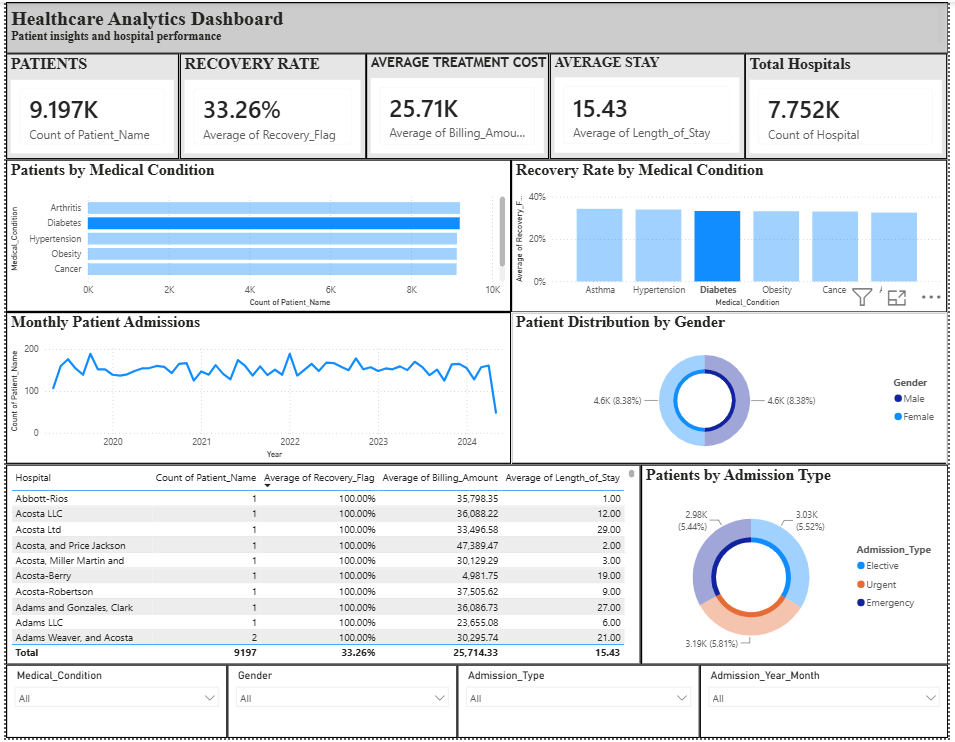

Layout of this report page (visuals, bound fields, positions):
{"tool":"powerbi","page":{"name":"Healthcare Dashboard","canvas":[1280,1000],"ordinal":0},"visuals":[{"type":"textbox","box":[0,0,1280.9,70.3],"z":0},{"type":"cardVisual","title":"PATIENTS","fields":{"Data":["CountNonNull(healthcare_cleaned.Patient_Name)"]},"box":[0,70.3,235.4,143.7],"z":1000},{"type":"cardVisual","title":"RECOVERY RATE","fields":{"Data":["Avg(healthcare_cleaned.Recovery_Flag)"]},"box":[235.4,70.3,253.7,143.7],"z":2000},{"type":"cardVisual","title":"AVERAGE TREATMENT COST","fields":{"Data":["Avg(healthcare_cleaned.Billing_Amount)"]},"box":[489.1,70.3,249.2,143.7],"z":3000},{"type":"cardVisual","title":"AVERAGE STAY","fields":{"Data":["Avg(healthcare_cleaned.Length_of_Stay)"]},"box":[738.3,70.3,266,143.7],"z":4000},{"type":"cardVisual","title":"Total Hospitals","fields":{"Data":["Count(healthcare_cleaned.Hospital)"]},"box":[1004.3,70.3,275.1,143.7],"z":5000},{"type":"clusteredBarChart","title":"Patients by Medical Condition","fields":{"Category":["healthcare_cleaned.Medical_Condition"],"Y":["CountNonNull(healthcare_cleaned.Patient_Name)"]},"box":[0,214,686.1,207.2],"z":6000},{"type":"clusteredColumnChart","title":"Recovery Rate by Medical Condition","fields":{"Category":["healthcare_cleaned.Medical_Condition"],"Y":["Avg(healthcare_cleaned.Recovery_Flag)"]},"box":[686.3,214,593.1,207.9],"z":7000},{"type":"lineChart","title":"Monthly Patient Admissions","fields":{"Category":["healthcare_cleaned.Admission_Year_Month.Variation.Date Hierarchy.Year","healthcare_cleaned.Admission_Year_Month.Variation.Date Hierarchy.Quarter","healthcare_cleaned.Admission_Year_Month.Variation.Date Hierarchy.Month","healthcare_cleaned.Admission_Year_Month.Variation.Date Hierarchy.Day"],"Y":["CountNonNull(healthcare_cleaned.Patient_Name)"]},"box":[0,421.9,686.3,206.4],"z":8000},{"type":"donutChart","title":"Patient Distribution by Gender","fields":{"Category":["healthcare_cleaned.Gender"],"Y":["CountNonNull(healthcare_cleaned.Patient_Name)"]},"box":[686.3,421.9,593.1,206.4],"z":9000},{"type":"donutChart","title":"Patients by Admission Type","fields":{"Category":["healthcare_cleaned.Admission_Type"],"Y":["CountNonNull(healthcare_cleaned.Patient_Name)"]},"box":[862.1,628.2,417.3,272.1],"z":10000},{"type":"tableEx","fields":{"Values":["healthcare_cleaned.Hospital","healthcare_cleaned.Patient_Name","Avg(healthcare_cleaned.Recovery_Flag)","Avg(healthcare_cleaned.Billing_Amount)","Avg(healthcare_cleaned.Length_of_Stay)"]},"box":[0,628.2,862.1,272.1],"z":11000},{"type":"slicer","fields":{"Values":["healthcare_cleaned.Medical_Condition"]},"box":[0,900.1,300.6,100.2],"z":11001},{"type":"slicer","fields":{"Values":["healthcare_cleaned.Gender"]},"box":[300.6,900.1,312.5,100.2],"z":11002},{"type":"slicer","fields":{"Values":["healthcare_cleaned.Admission_Type"]},"box":[613.1,900.1,329.5,100.2],"z":11003},{"type":"slicer","fields":{"Values":["healthcare_cleaned.Admission_Year_Month"]},"box":[942.6,900.1,338,100.2],"z":11004}]}

Visuals, with their boxes in screenshot pixels (x1, y1, x2, y2), scaled from the page's 1280x1000 canvas onto the 955x742 screenshot:
textbox: BBox(0, 0, 954, 52)
"PATIENTS" cardVisual: BBox(0, 52, 176, 159)
"RECOVERY RATE" cardVisual: BBox(176, 52, 365, 159)
"AVERAGE TREATMENT COST" cardVisual: BBox(365, 52, 551, 159)
"AVERAGE STAY" cardVisual: BBox(551, 52, 749, 159)
"Total Hospitals" cardVisual: BBox(749, 52, 954, 159)
"Patients by Medical Condition" clusteredBarChart: BBox(0, 159, 512, 313)
"Recovery Rate by Medical Condition" clusteredColumnChart: BBox(512, 159, 954, 313)
"Monthly Patient Admissions" lineChart: BBox(0, 313, 512, 466)
"Patient Distribution by Gender" donutChart: BBox(512, 313, 954, 466)
"Patients by Admission Type" donutChart: BBox(643, 466, 954, 668)
tableEx - healthcare_cleaned.Hospital x healthcare_cleaned.Patient_Name: BBox(0, 466, 643, 668)
slicer - healthcare_cleaned.Medical_Condition: BBox(0, 668, 224, 741)
slicer - healthcare_cleaned.Gender: BBox(224, 668, 457, 741)
slicer - healthcare_cleaned.Admission_Type: BBox(457, 668, 703, 741)
slicer - healthcare_cleaned.Admission_Year_Month: BBox(703, 668, 954, 741)
